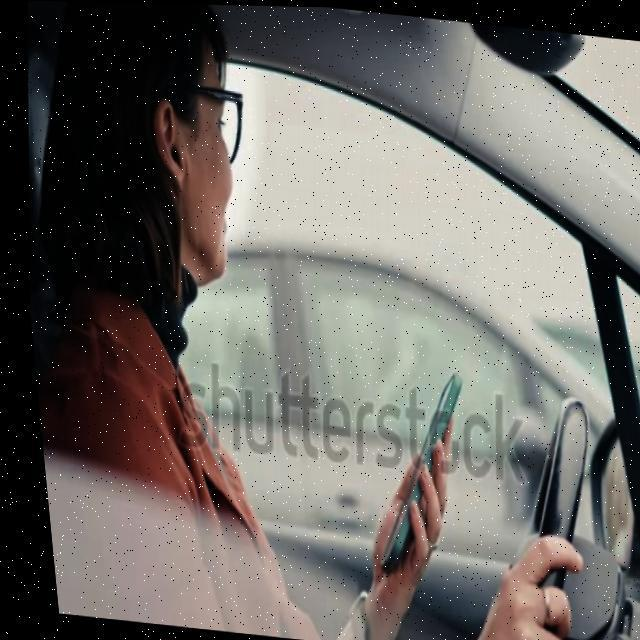PhoneCall: (352, 362, 474, 578)
